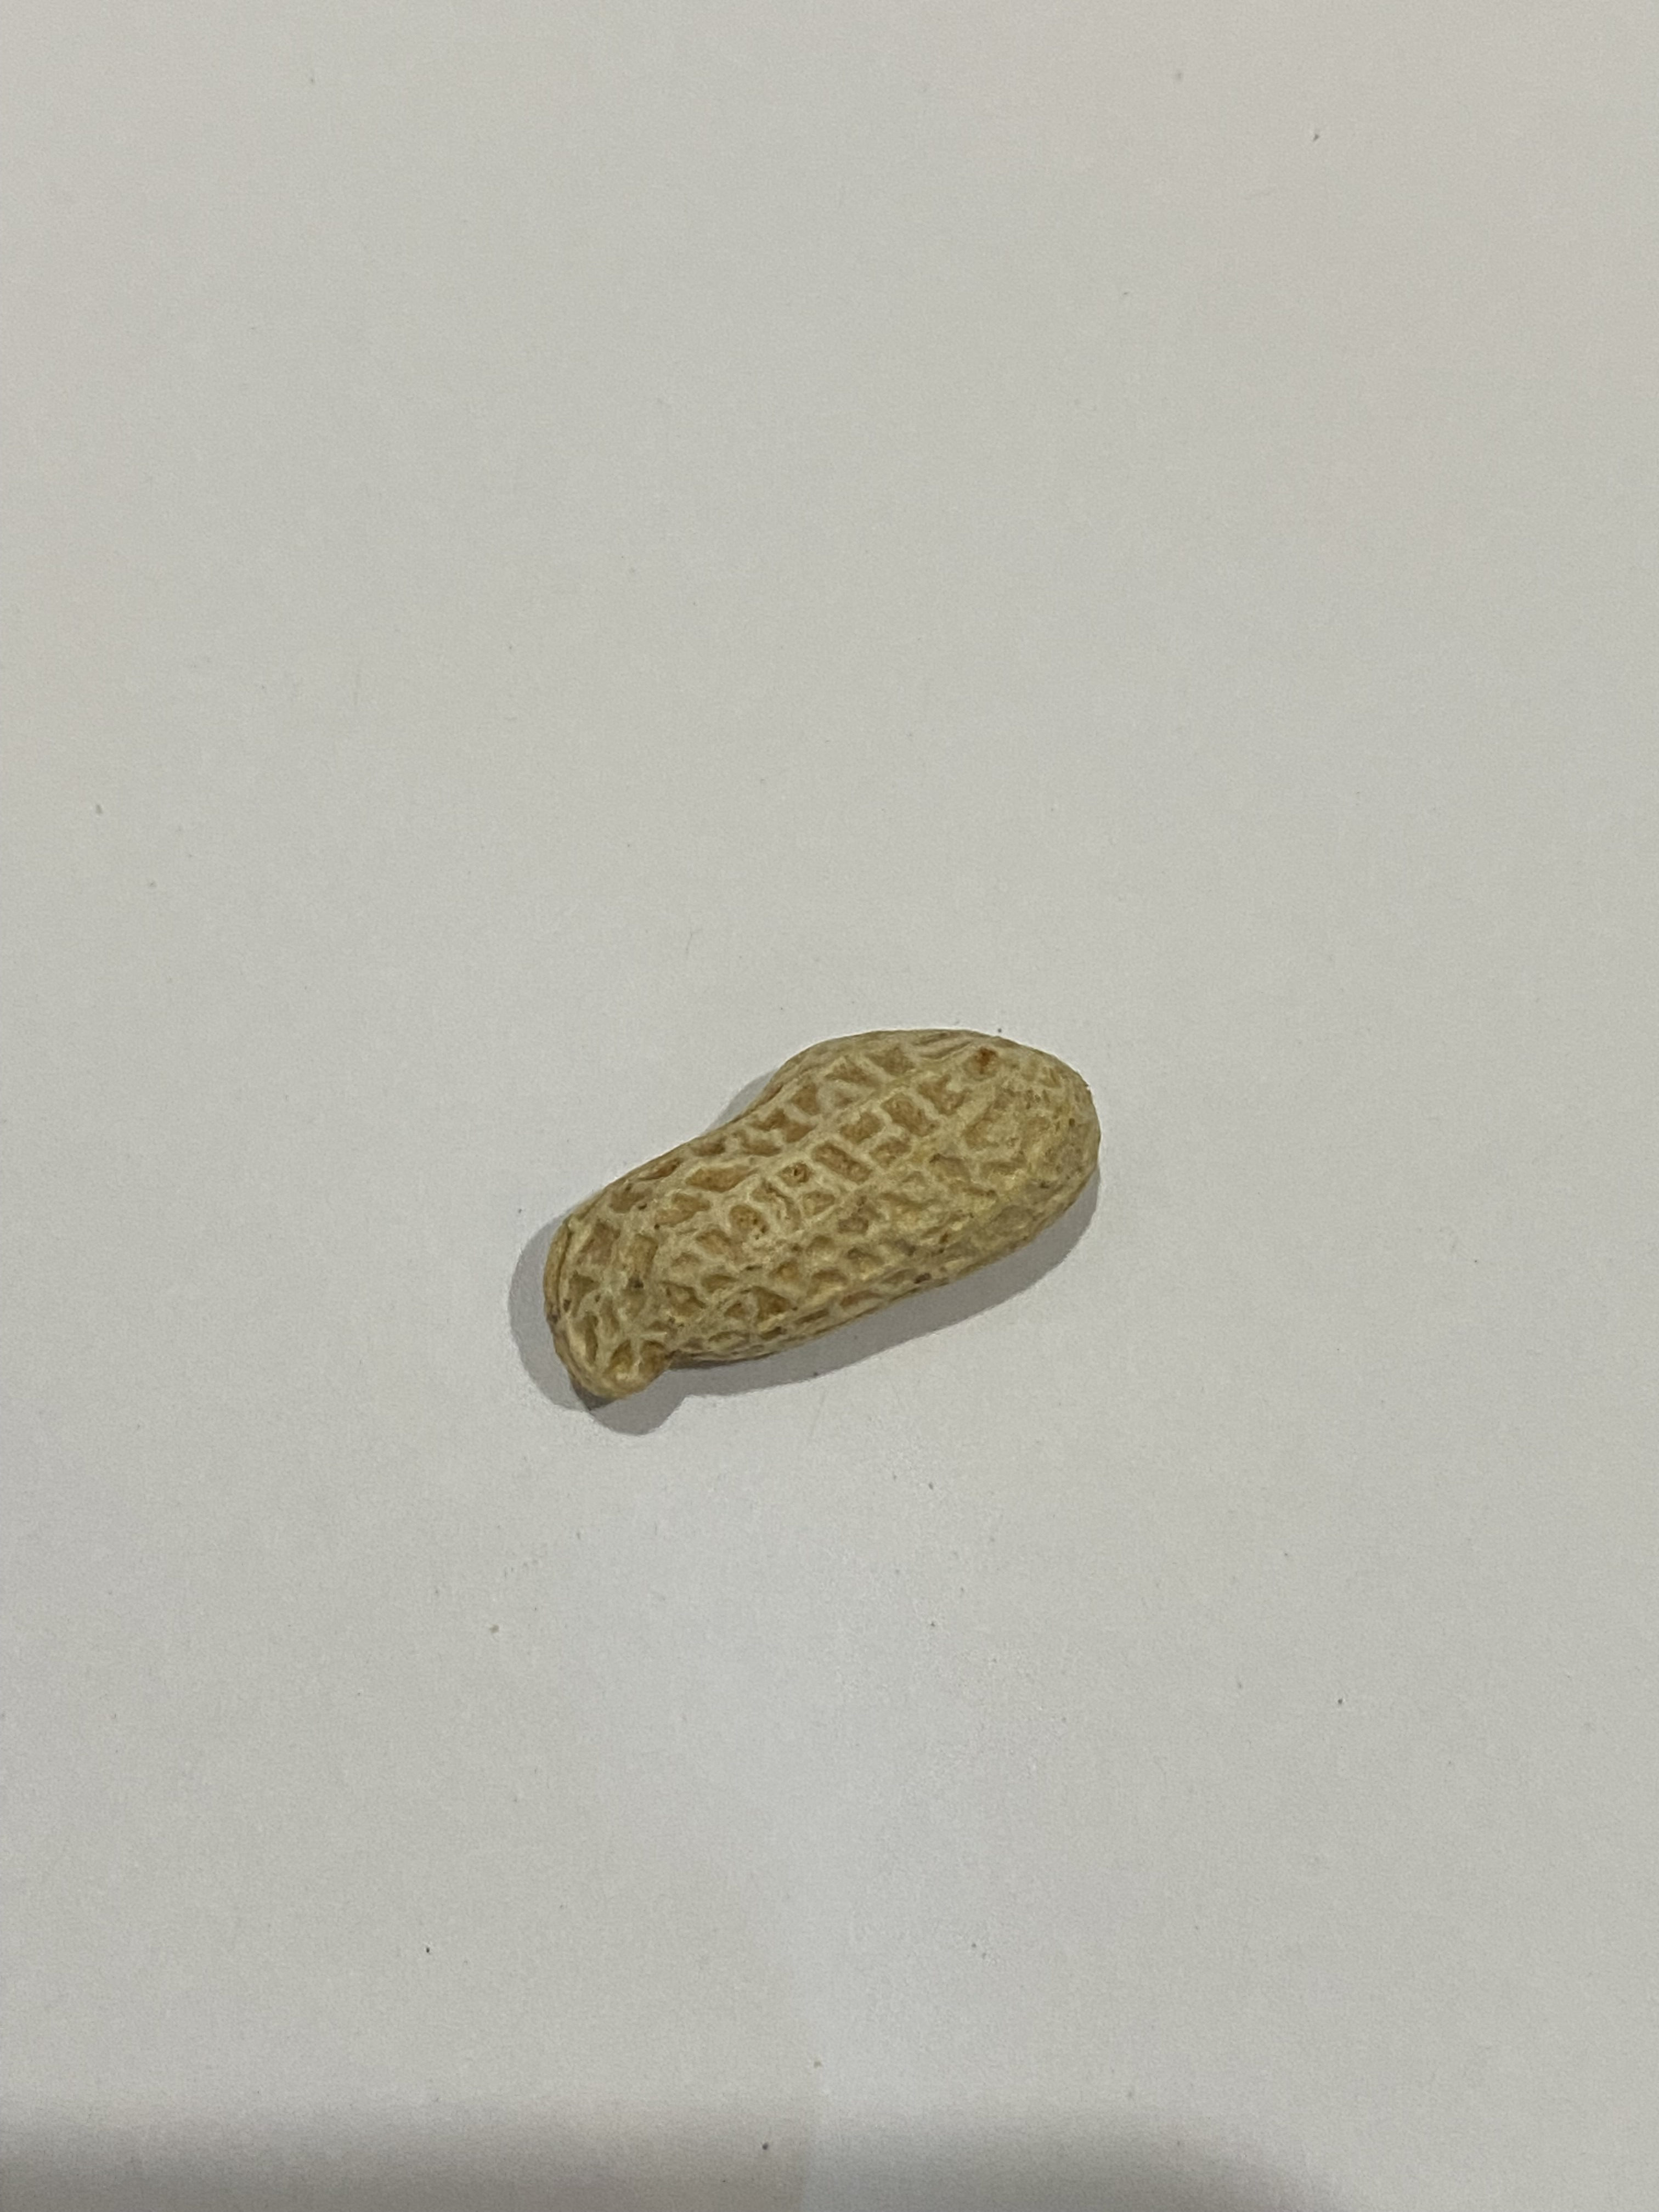kacang2: (533, 1000, 1122, 1421)
